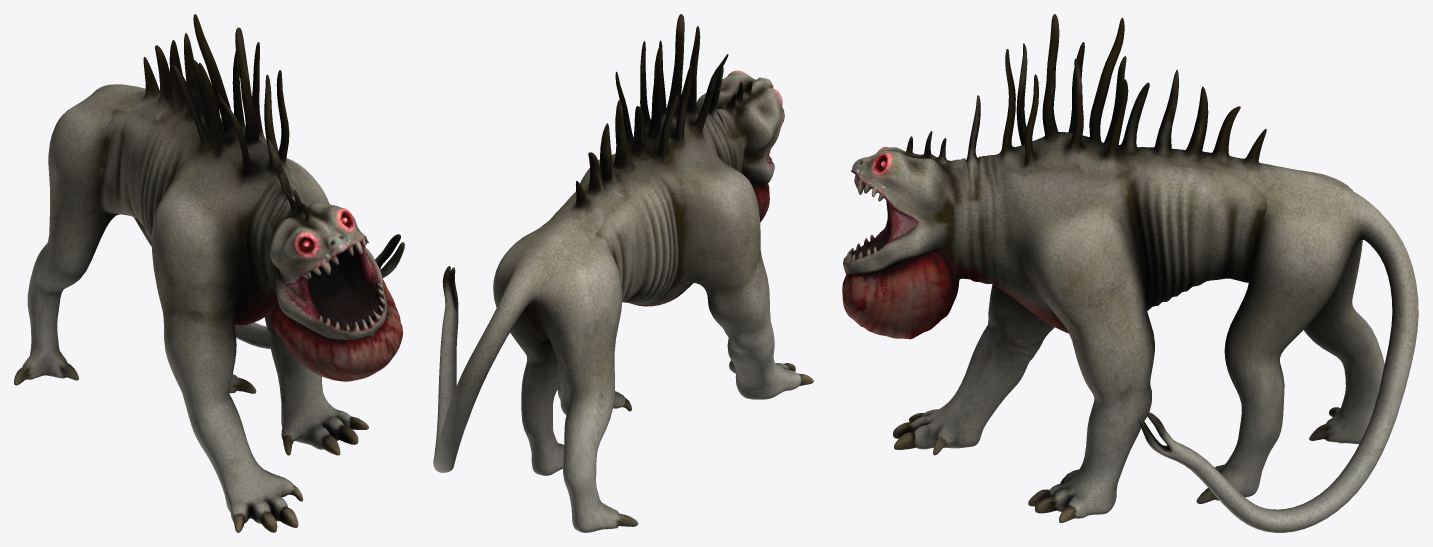
File: MZ4250 - Howler.glb
The picture shows the model from 3 angles, left to right: view 1: azimuth 30°, elevation 25°; view 2: azimuth 150°, elevation 25°; view 3: azimuth 270°, elevation 25°; orthographic projection. The views are drawn at different scales.
Visible parts, largest first — view 1: Head Base Sphere.001; view 2: Head Base Sphere.001; view 3: Head Base Sphere.001.
Part boxes in pixels (x1,y1,x2,y2): Head Base Sphere.001: (14,14,404,532); Head Base Sphere.001: (433,14,813,532); Head Base Sphere.001: (842,14,1418,532).
Bounding box in the file's own units: 0.8715 × 1.25 × 1.44.
Materials: 1 (1 with a texture image).
